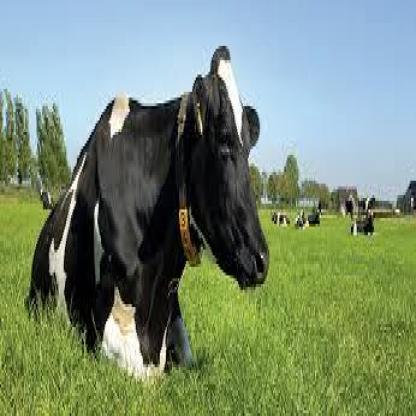cow: (25, 42, 271, 383), (350, 210, 375, 238), (38, 188, 56, 211), (304, 205, 322, 228), (272, 210, 291, 226), (295, 208, 305, 228)
